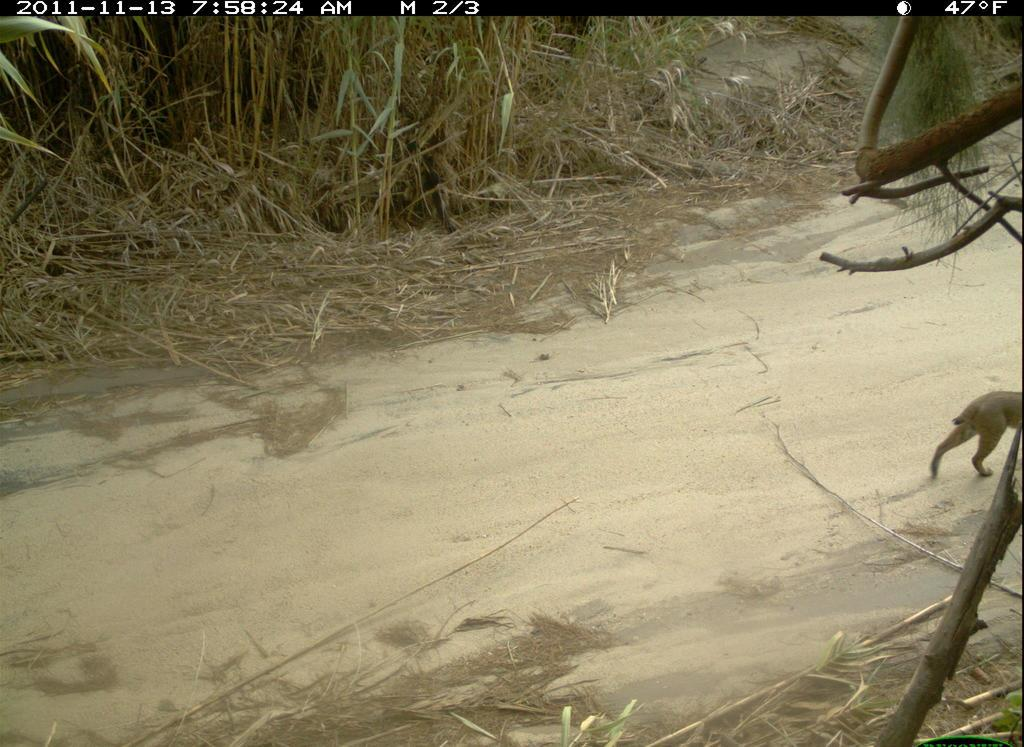bobcat: (918, 382, 1022, 481)
